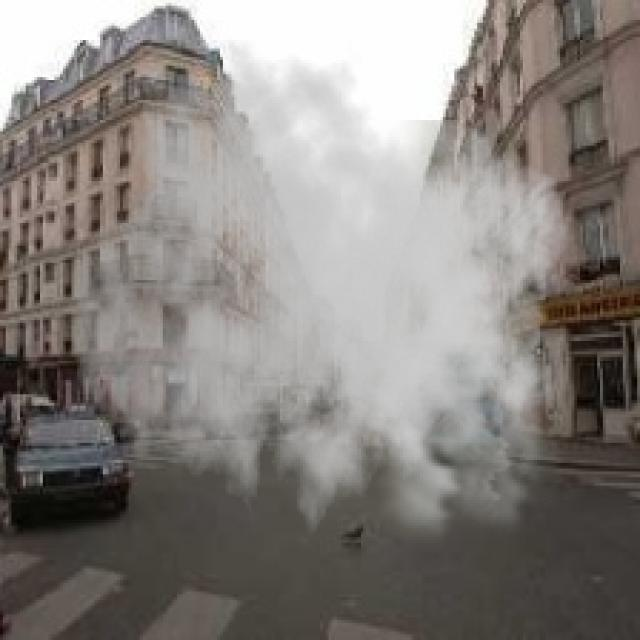smoke: (69, 40, 586, 566)
